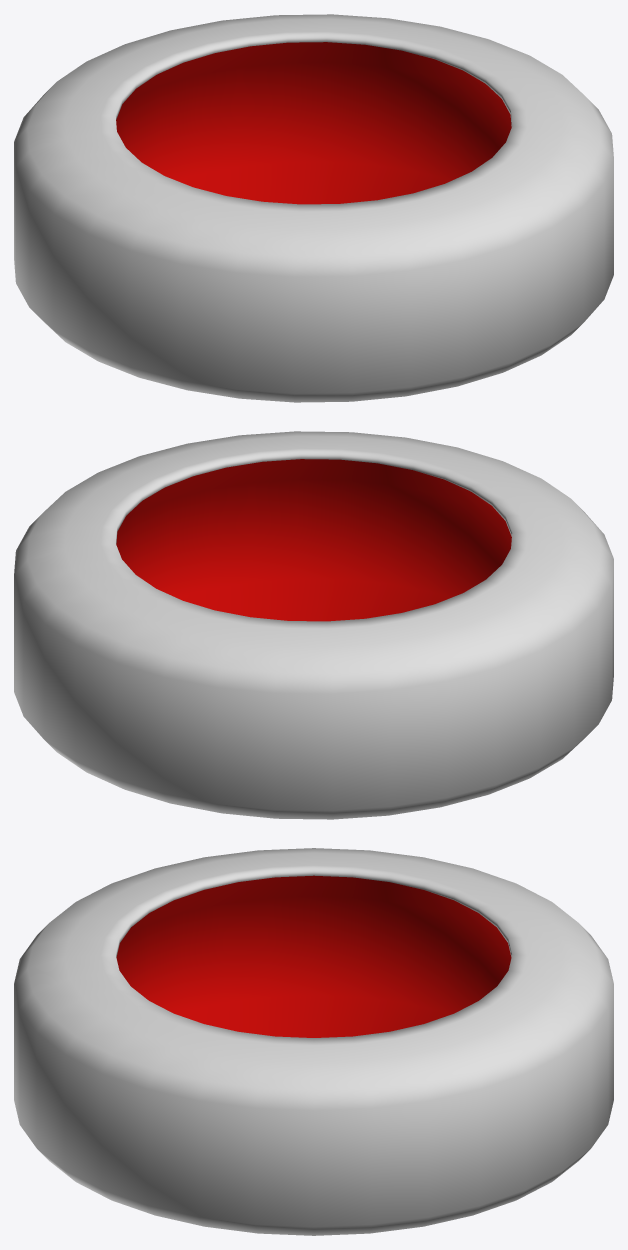
Rendered from Tire.fbx.
The picture shows the model from 3 angles, top to bottom: view 1: azimuth 30°, elevation 25°; view 2: azimuth 150°, elevation 25°; view 3: azimuth 270°, elevation 25°; orthographic projection.
Parts seen in each view (by area): view 1: Tires; view 2: Tires; view 3: Tires.
Part boxes in pixels (x1=…): Tires: x1=14, y1=14, x2=613, y2=402; Tires: x1=14, y1=431, x2=613, y2=819; Tires: x1=14, y1=848, x2=613, y2=1235.
Bounding box in the file's own units: 152 × 49.14 × 152.
